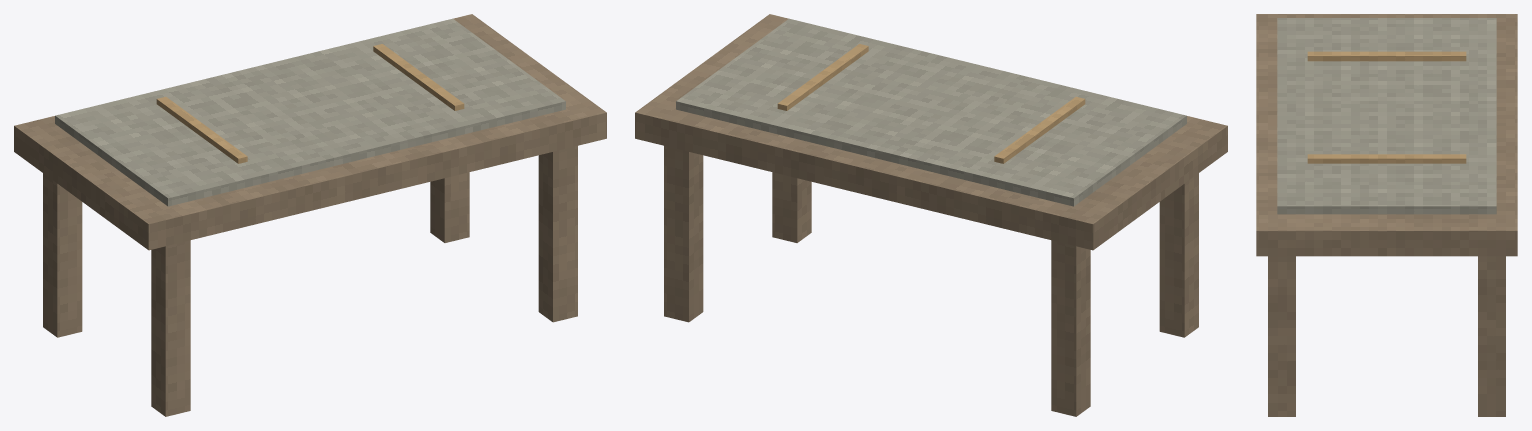
The model's file is level_blockout_lookout_fire_map_table.glb.
The picture shows the model from 3 angles, left to right: view 1: azimuth 30°, elevation 25°; view 2: azimuth 150°, elevation 25°; view 3: azimuth 270°, elevation 25°; orthographic projection. The views are drawn at different scales.
Parts seen in each view (by area): view 1: level_blockout_lookout_fire_map_table; view 2: level_blockout_lookout_fire_map_table; view 3: level_blockout_lookout_fire_map_table.
Boxes of the visible parts, x1,y1,x2,y2 form: level_blockout_lookout_fire_map_table: [14, 14, 606, 416]; level_blockout_lookout_fire_map_table: [635, 14, 1227, 416]; level_blockout_lookout_fire_map_table: [1256, 14, 1517, 416].
Bounding box in the file's own units: 2.2 × 1.01 × 1.12.
Materials: 3 (3 with a texture image).
